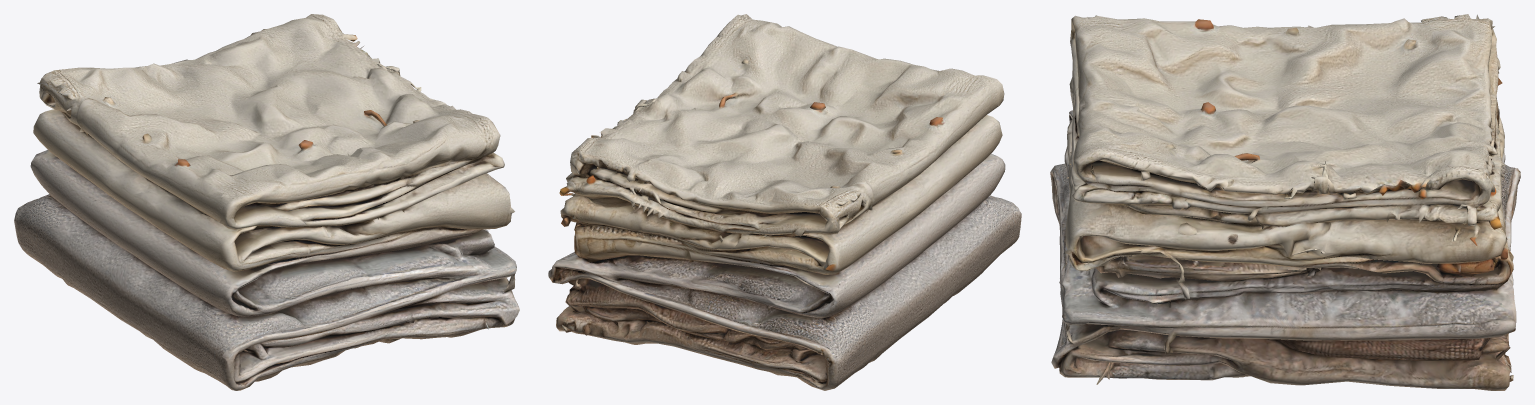
Rendered from scene-folded-linen-v03.glb.
3 views of the same model, side by side, from view 1: azimuth 30°, elevation 25°; view 2: azimuth 150°, elevation 25°; view 3: azimuth 270°, elevation 25° (orthographic). The views are drawn at different scales.
Parts seen in each view (by area): view 1: tripo_node_ff0e9697-dbb4-45ca-bf11-514b9773ed69; view 2: tripo_node_ff0e9697-dbb4-45ca-bf11-514b9773ed69; view 3: tripo_node_ff0e9697-dbb4-45ca-bf11-514b9773ed69.
Boxes of the visible parts, x1,y1,x2,y2 form: tripo_node_ff0e9697-dbb4-45ca-bf11-514b9773ed69: [14, 14, 519, 390]; tripo_node_ff0e9697-dbb4-45ca-bf11-514b9773ed69: [548, 14, 1021, 390]; tripo_node_ff0e9697-dbb4-45ca-bf11-514b9773ed69: [1050, 14, 1520, 390].
Bounding box in the file's own units: 0.2797 × 0.18 × 0.3184.
Materials: 1 (1 with a texture image).
